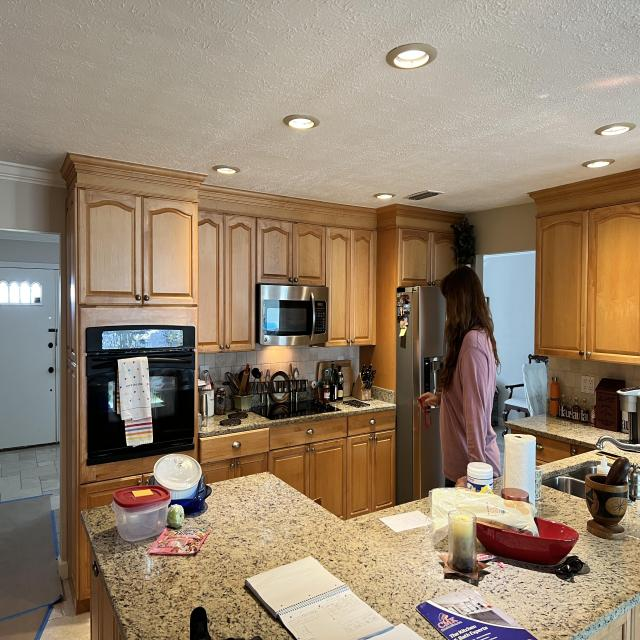Appliance_Fridge: (396, 283, 450, 504)
Appliance_Microwave: (256, 285, 329, 349)
Appliance_Oven: (84, 325, 197, 469)
Appliance_Sink: (542, 457, 598, 504), (598, 437, 640, 454)
Appliance_Stove: (249, 400, 336, 420)
Cabinet_Flat: (200, 410, 399, 464), (538, 438, 593, 466)
Cabinet_Raised_Panel: (74, 158, 460, 390), (532, 171, 640, 366), (202, 431, 395, 520), (79, 474, 152, 511), (77, 522, 92, 601)
Countertop_Granite: (85, 472, 446, 640), (480, 485, 640, 640), (505, 416, 640, 479), (200, 400, 394, 432)
